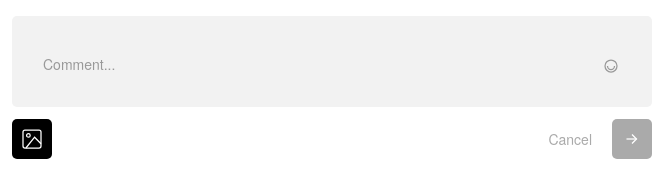
CommentForm emoji › suggests emoji for a `:partial` word and Enter completes the first one
The width and height of the screenshot is (669, 176).
In the text box named "Comment": {"x": 332, "y": 62} [42,16,622,107], type "hi :sm"
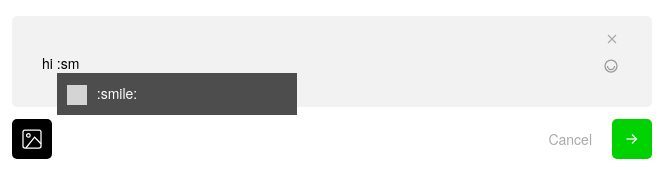
Press Enter
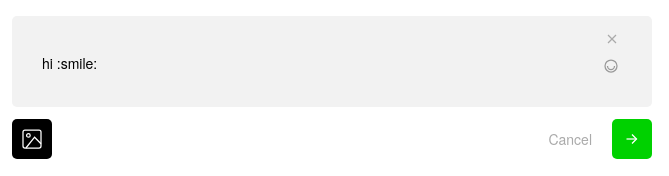
Expected: the text box named "Comment" holds "hi :smile:", [42,16,622,107]
